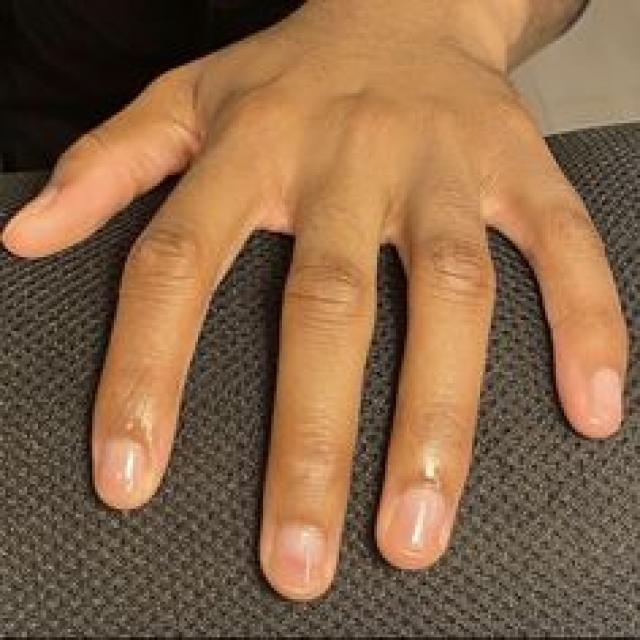Fingernail: (271, 523, 330, 593), (390, 491, 447, 559), (98, 439, 152, 508), (594, 369, 621, 434)
